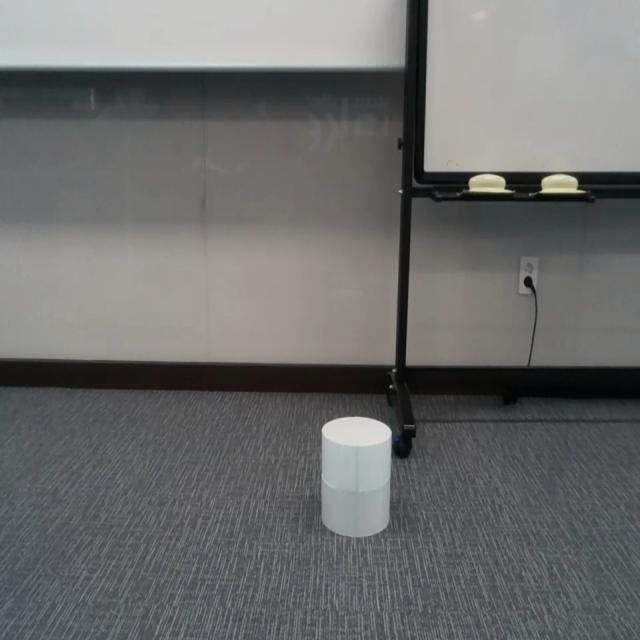cylinder: (321, 414, 392, 538)
